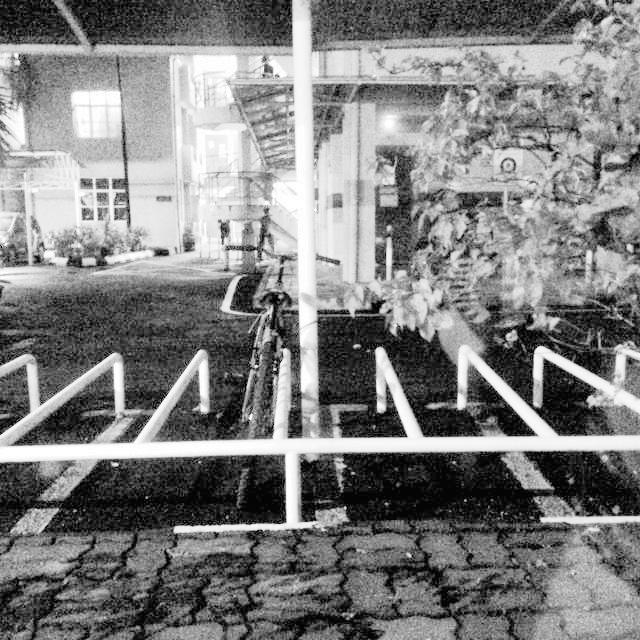Bicycle: (249, 246, 334, 435)
